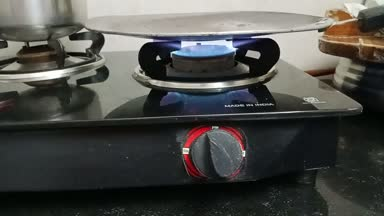flame_gas_on: (147, 38, 282, 188)
